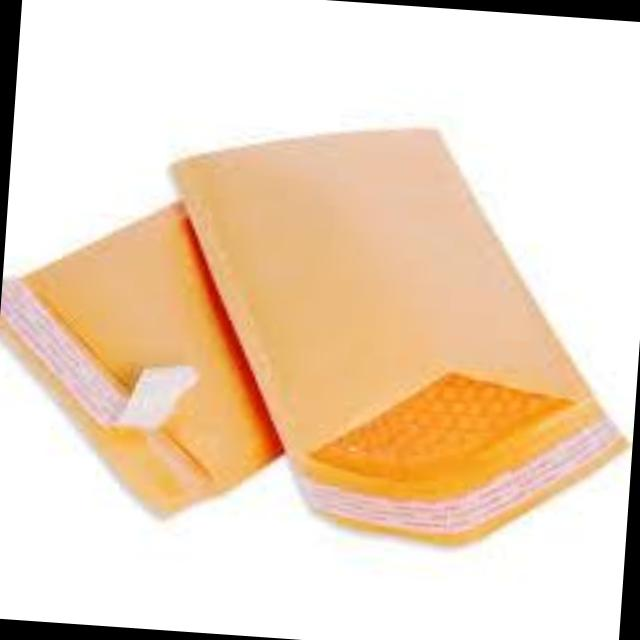mailer: (177, 133, 626, 541), (0, 203, 280, 514)
